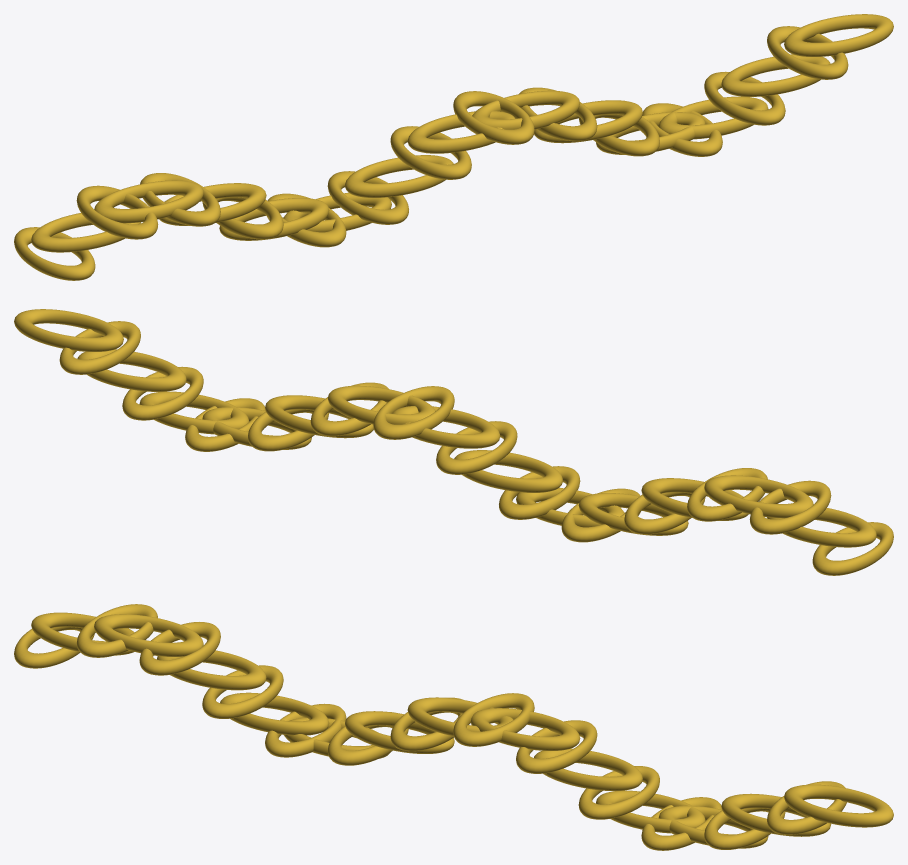
File: rope-luxe-chain.glb
3 views of the same model, one above another, from view 1: azimuth 30°, elevation 25°; view 2: azimuth 150°, elevation 25°; view 3: azimuth 330°, elevation 25° (orthographic).
Parts seen in each view (by area): view 1: chain_link (×26); view 2: chain_link (×26); view 3: chain_link (×26).
Part boxes in pixels (bbox=[...]): chain_link (×26): bbox=[14, 14, 893, 280]; chain_link (×26): bbox=[14, 309, 893, 575]; chain_link (×26): bbox=[14, 604, 893, 850].
Bounding box in the file's own units: 2.48 × 0.1957 × 0.3024.
